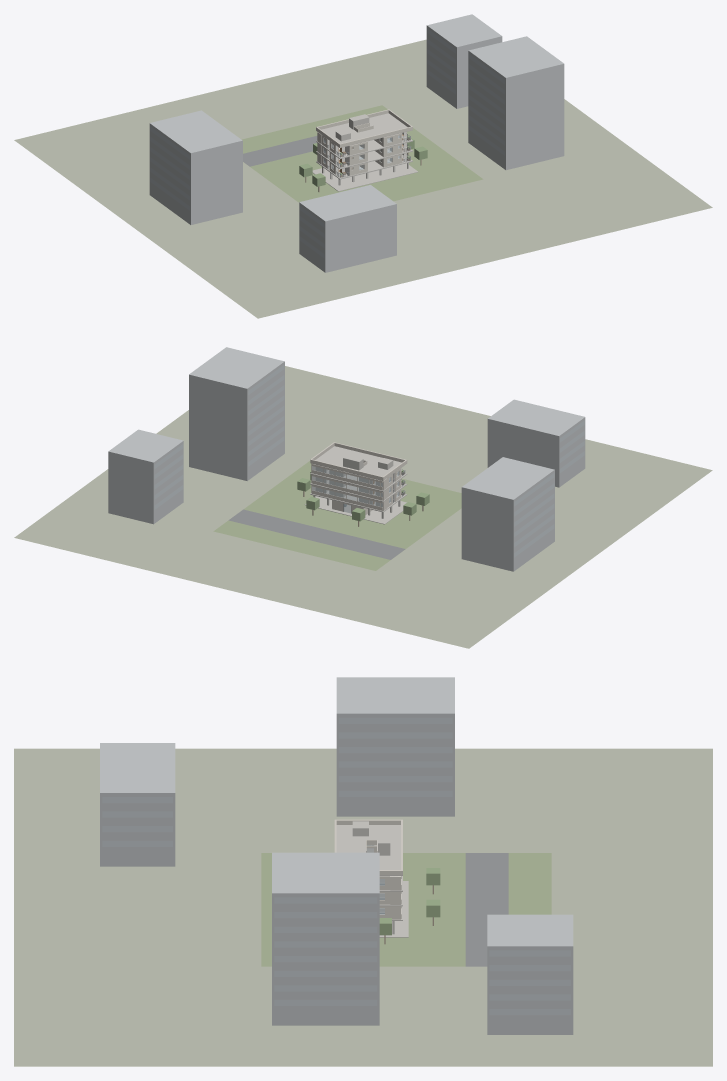
The picture shows the model from 3 angles, top to bottom: view 1: azimuth 30°, elevation 25°; view 2: azimuth 150°, elevation 25°; view 3: azimuth 270°, elevation 25°; orthographic projection. The views are drawn at different scales.
Visible parts, largest first — view 1: ground_lobby_geo, roof_geo, L00_band; view 2: ground_lobby_geo, roof_geo, L03_common, L02_common, L01_common; view 3: ground_lobby_geo, roof_geo.
Boxes of the visible parts, x1,y1,x2,y2 form: ground_lobby_geo: (14, 14, 712, 318); roof_geo: (316, 109, 412, 147); L00_band: (316, 164, 412, 188); ground_lobby_geo: (14, 347, 712, 648); roof_geo: (310, 442, 407, 480); L03_common: (311, 463, 387, 490); L02_common: (311, 474, 387, 500); L01_common: (311, 485, 387, 510); ground_lobby_geo: (14, 677, 712, 1066); roof_geo: (334, 819, 402, 875).
Size of what is drawn, in the model's own units: 140 by 27.25 by 130.
